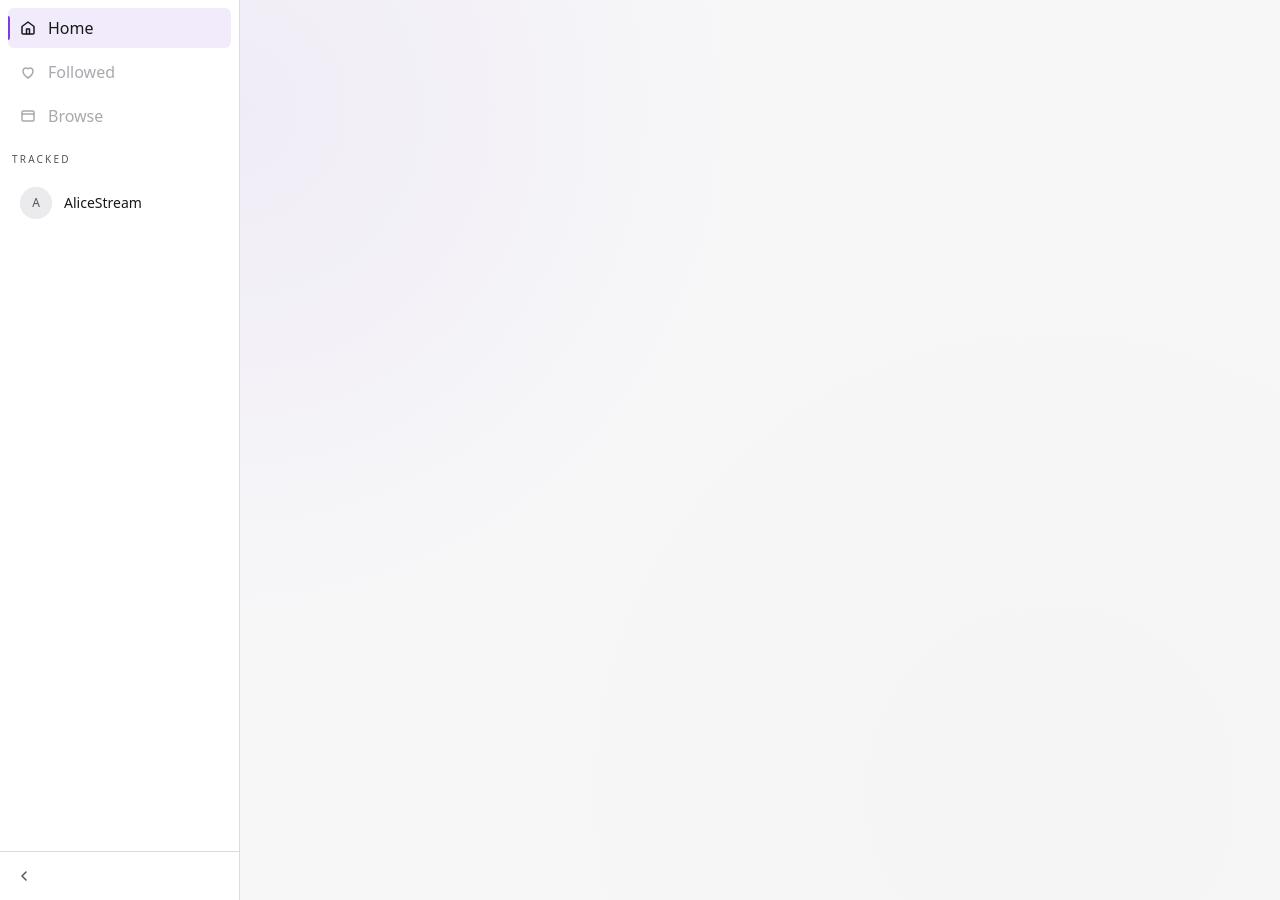
Scenario: LeftRail › renders differently when collapsed (tracked section header hidden)
Expected: the text "TRACKED" is shown, [12,152,71,166]
What coordinates should you click on to do the following:
click the button named "collapse rail"
I would click on:
 (24, 876)
Its box is [8,860,40,892].
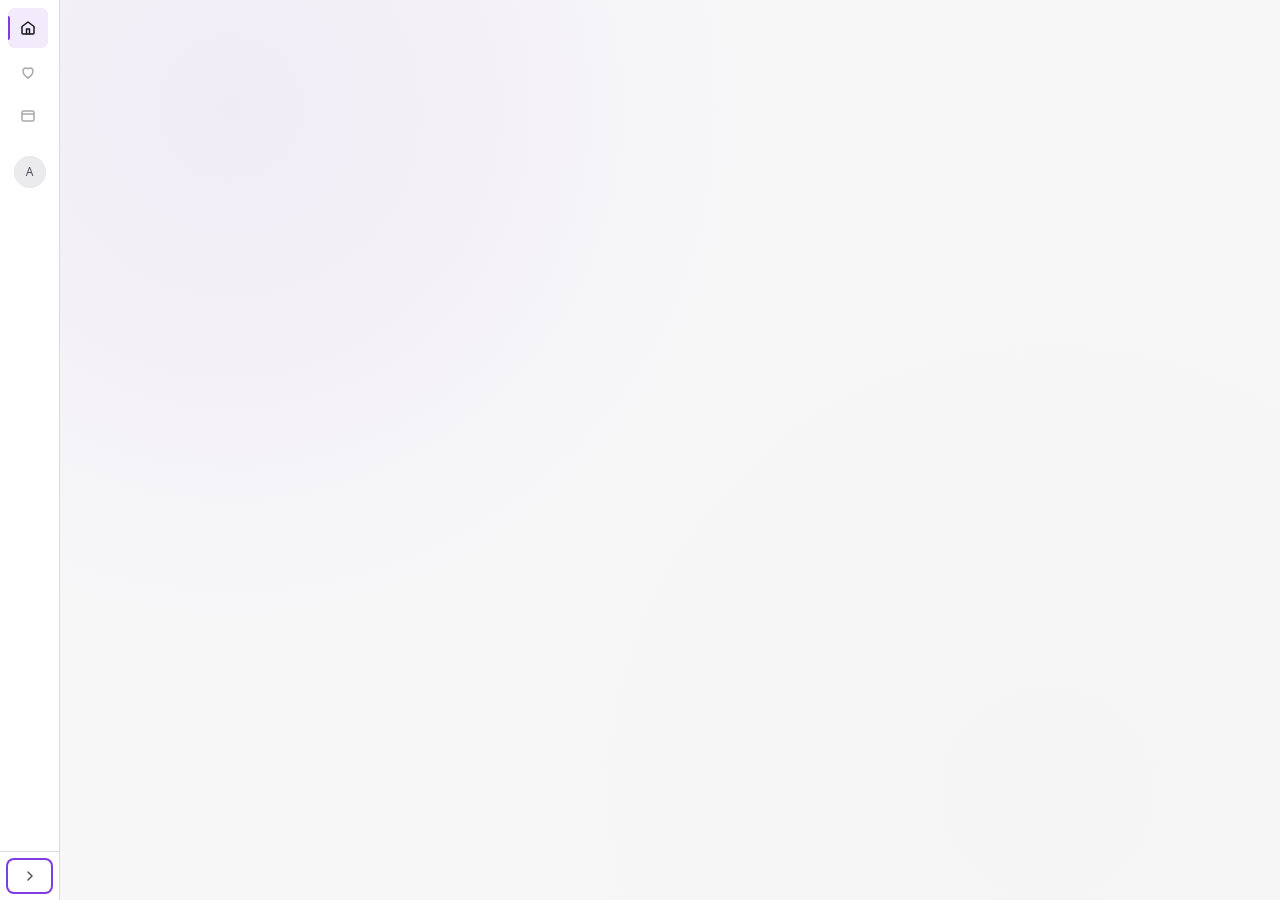
Expected: the text "A" is shown, [14,156,46,188]
Result: the text "TRACKED" is gone
